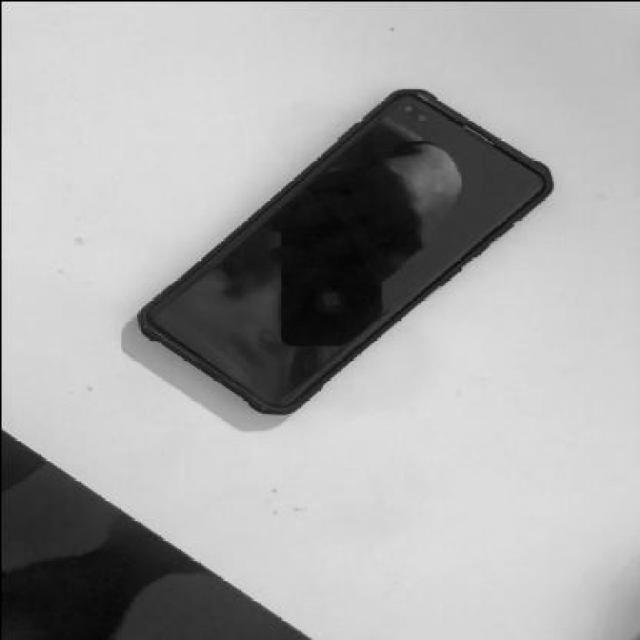fake: (137, 78, 552, 414)
